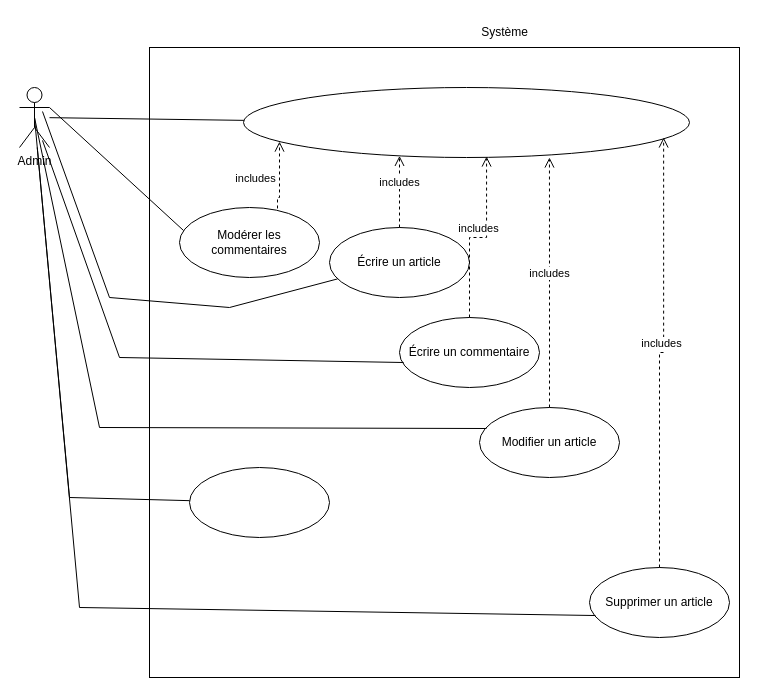
Image size: 757x695. Some labels were removed from this diagram. Here are the shapes that lost their labels. From the top down, the box of each, then its label:
(242, 86, 690, 158): Se connecter
(188, 466, 330, 538): Lire les articles
